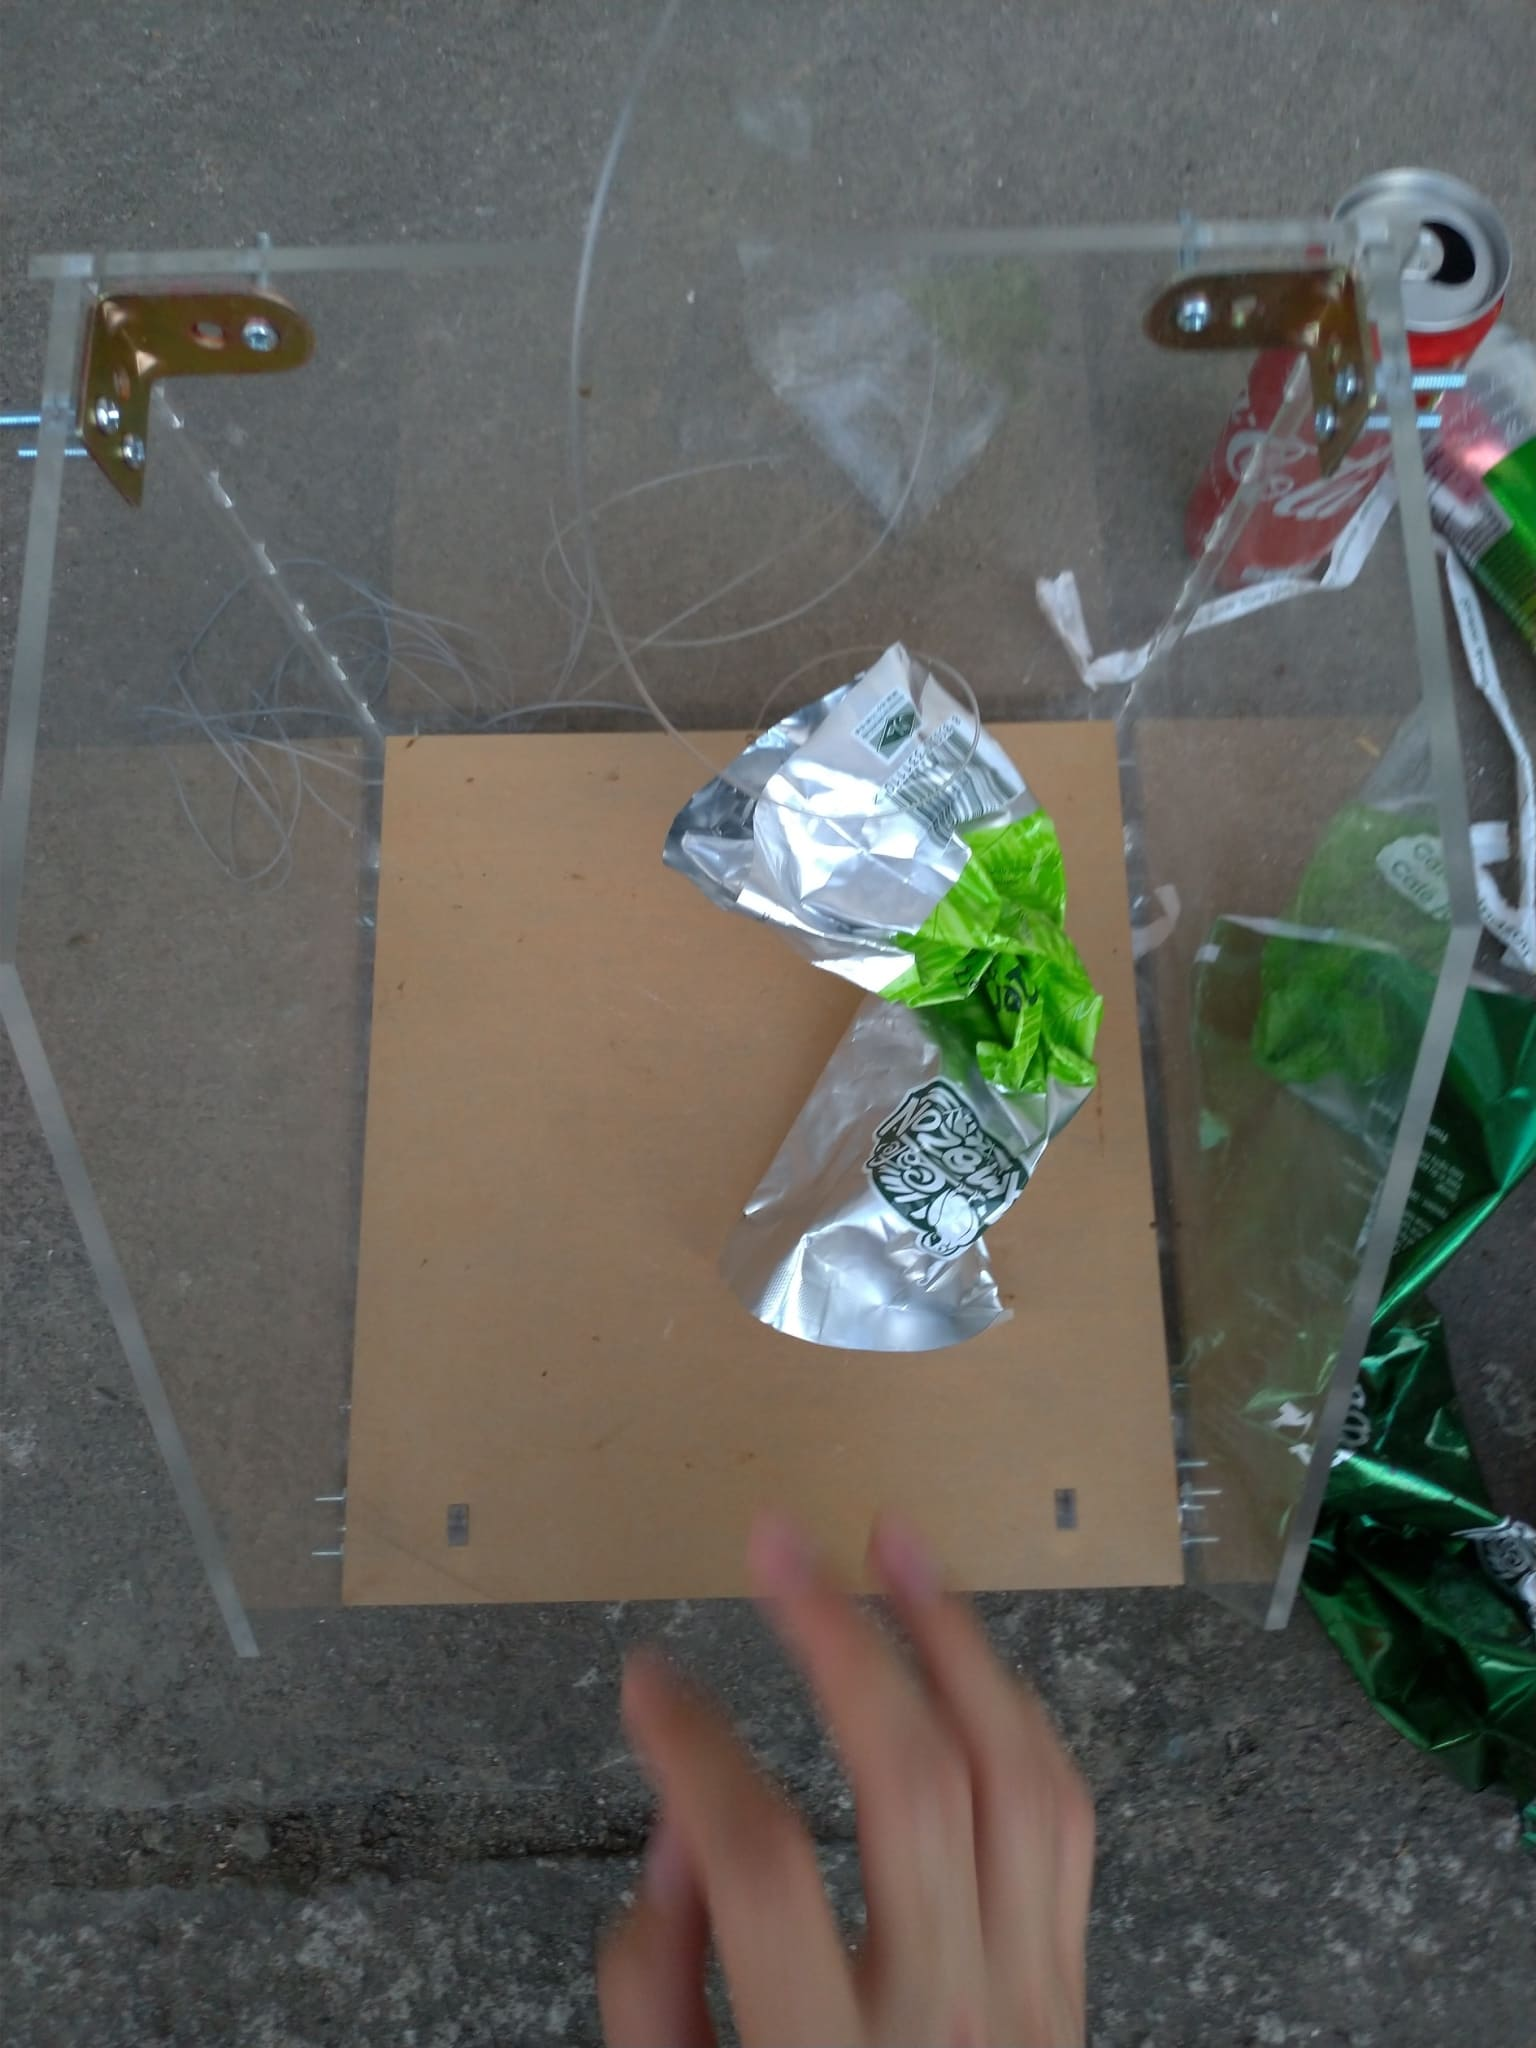AlCan: (1179, 168, 1509, 587), (1425, 323, 1536, 592)
Others: (1179, 810, 1536, 1817), (665, 651, 1105, 1348), (1020, 477, 1404, 687), (1396, 529, 1536, 947)
